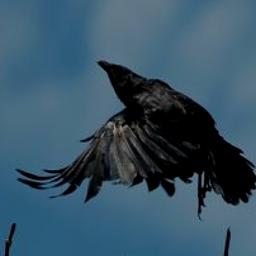Crow: (10, 57, 253, 222)
